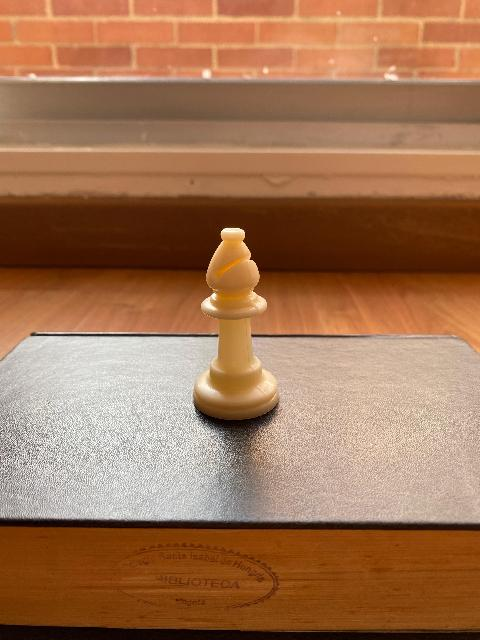white-bishop: (192, 226, 280, 420)
